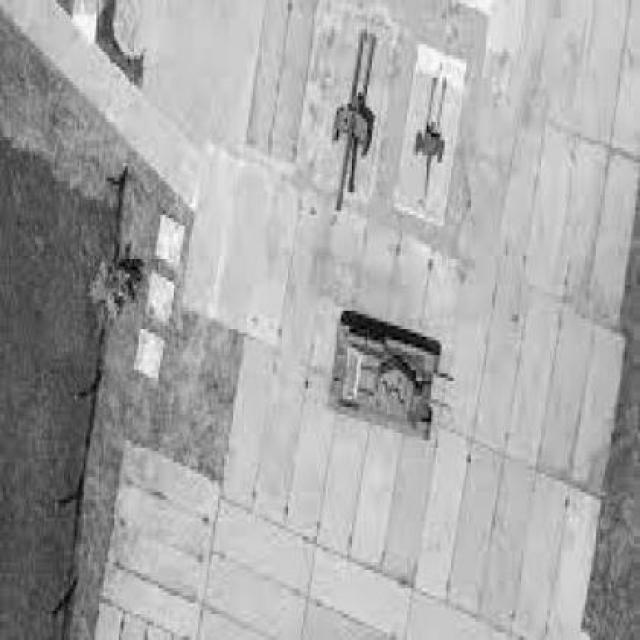tank: (327, 308, 450, 442)
